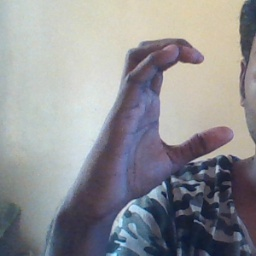C: (107, 32, 243, 172)
